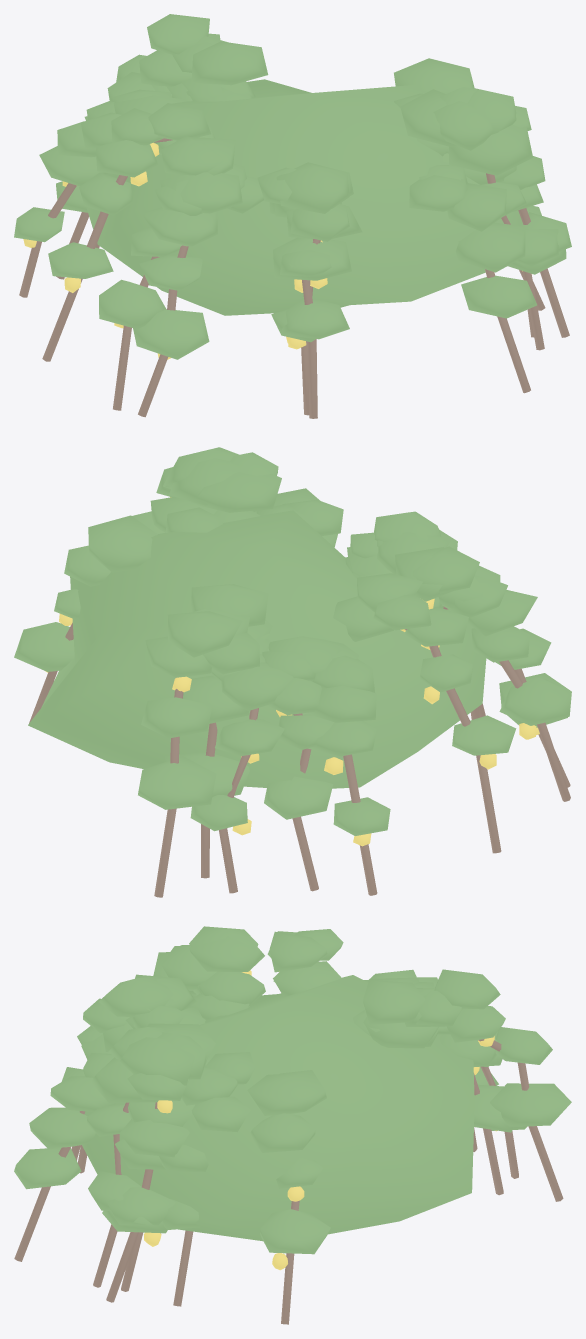
Rendered from Blender_Bramble_3.glb.
3 views of the same model, one above another, from view 1: azimuth 30°, elevation 25°; view 2: azimuth 150°, elevation 25°; view 3: azimuth 270°, elevation 25° (orthographic). The views are drawn at different scales.
Parts seen in each view (by area): view 1: Blender_Bramble_3; view 2: Blender_Bramble_3; view 3: Blender_Bramble_3.
Part boxes in pixels (box(x1,y1,x2,y2)): Blender_Bramble_3: box(14, 14, 571, 418); Blender_Bramble_3: box(14, 447, 571, 897); Blender_Bramble_3: box(14, 926, 571, 1324).
Bounding box in the file's own units: 3.09 × 1.51 × 3.22.
